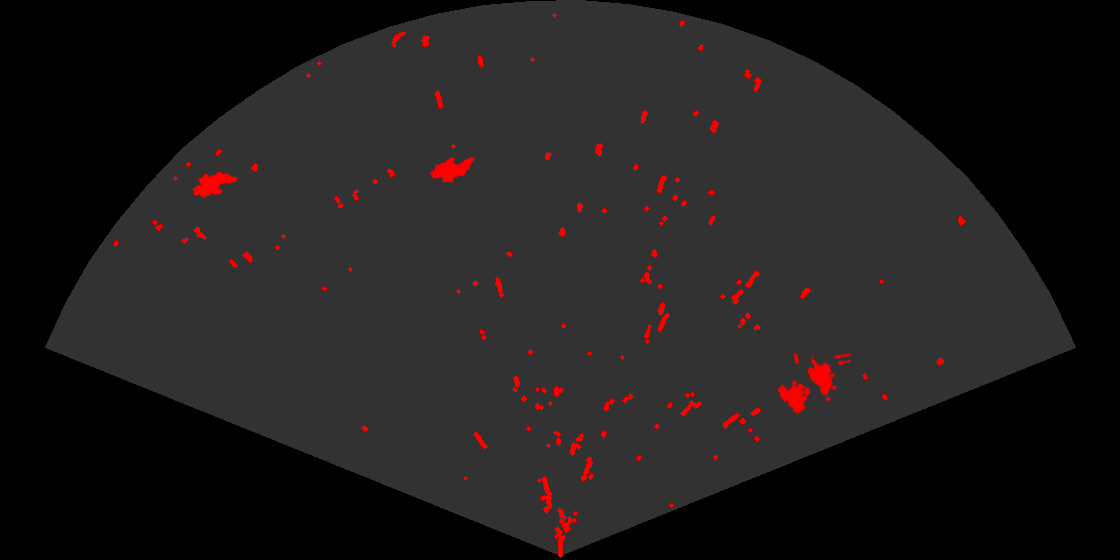AUV: (428, 155, 476, 184), (191, 170, 239, 199)
cage: (776, 354, 851, 415)
